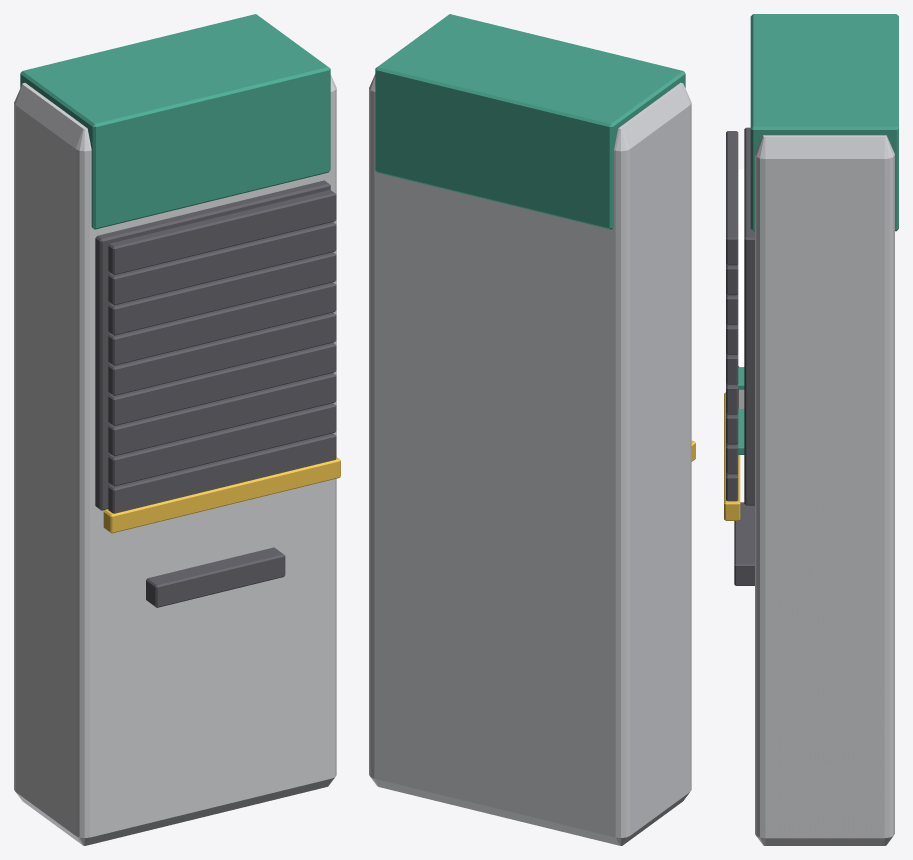
Rendered from petrol-station-and-forecourt-shop-shop-atm-3c11d96e__33979.glb.
3 views of the same model, side by side, from view 1: azimuth 30°, elevation 25°; view 2: azimuth 150°, elevation 25°; view 3: azimuth 270°, elevation 25° (orthographic).
Parts seen in each view (by area): view 1: shop-atm, atm-shutter/dark, atm-shutter/amber; view 2: shop-atm; view 3: shop-atm, atm-shutter/dark, atm-shutter/amber.
Boxes of the visible parts, bbox=[...] form: shop-atm: bbox=[14, 14, 336, 845]; atm-shutter/dark: bbox=[108, 190, 336, 513]; atm-shutter/amber: bbox=[103, 457, 340, 533]; shop-atm: bbox=[369, 14, 691, 845]; shop-atm: bbox=[734, 14, 898, 845]; atm-shutter/dark: bbox=[726, 131, 738, 501]; atm-shutter/amber: bbox=[724, 392, 740, 520].
Size of the model in its own units: 0.72 by 1.92 by 0.425.
